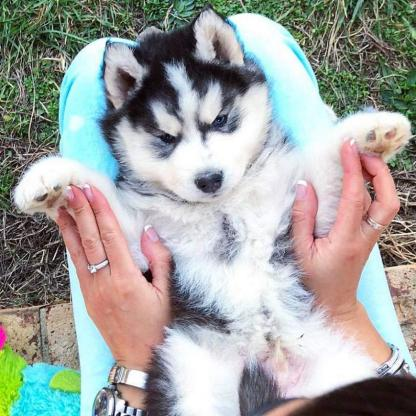husky: (13, 5, 408, 416)
